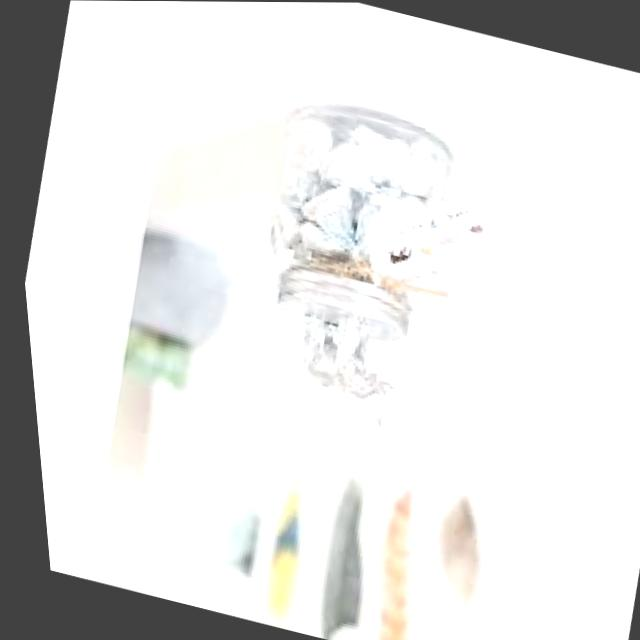kisses: (281, 171, 370, 257), (376, 131, 450, 207)
